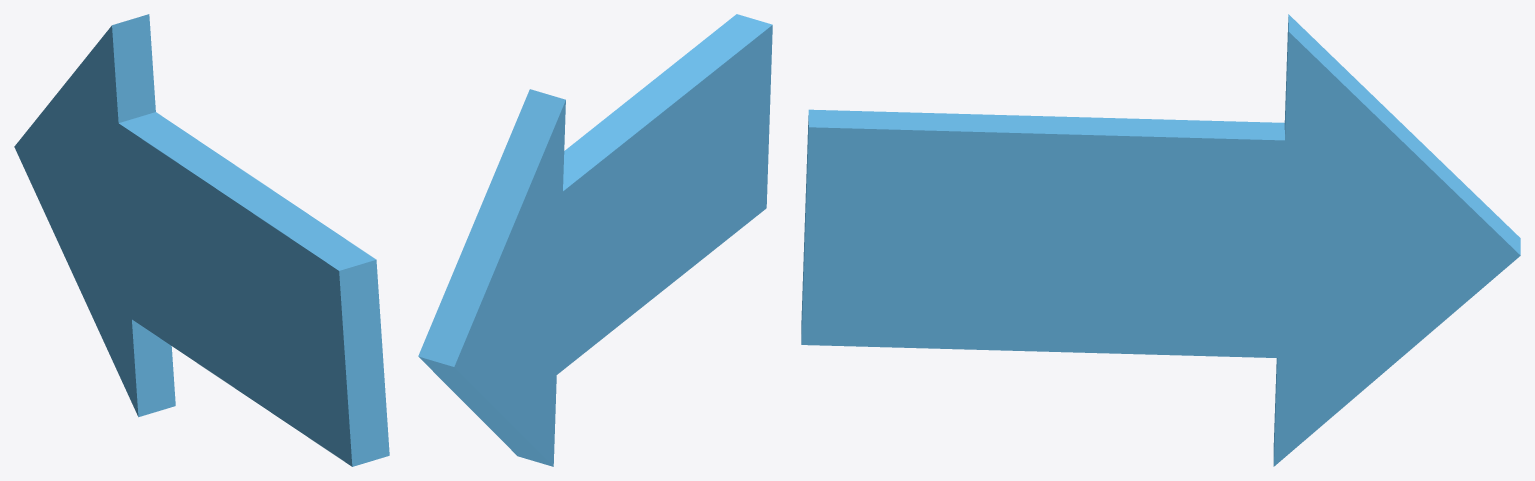
The model's file is BlueWhiteArrow.gltf.
3 views of the same model, side by side, from view 1: azimuth 30°, elevation 25°; view 2: azimuth 150°, elevation 25°; view 3: azimuth 270°, elevation 25° (orthographic). The views are drawn at different scales.
Parts seen in each view (by area): view 1: Merged_Meshes; view 2: Merged_Meshes; view 3: Merged_Meshes.
Part boxes in pixels (box(x1,y1,x2,y2)): Merged_Meshes: box(14, 14, 389, 466); Merged_Meshes: box(418, 14, 772, 466); Merged_Meshes: box(801, 14, 1520, 466).
Bounding box in the file's own units: 0.1522 × 1 × 1.53.
